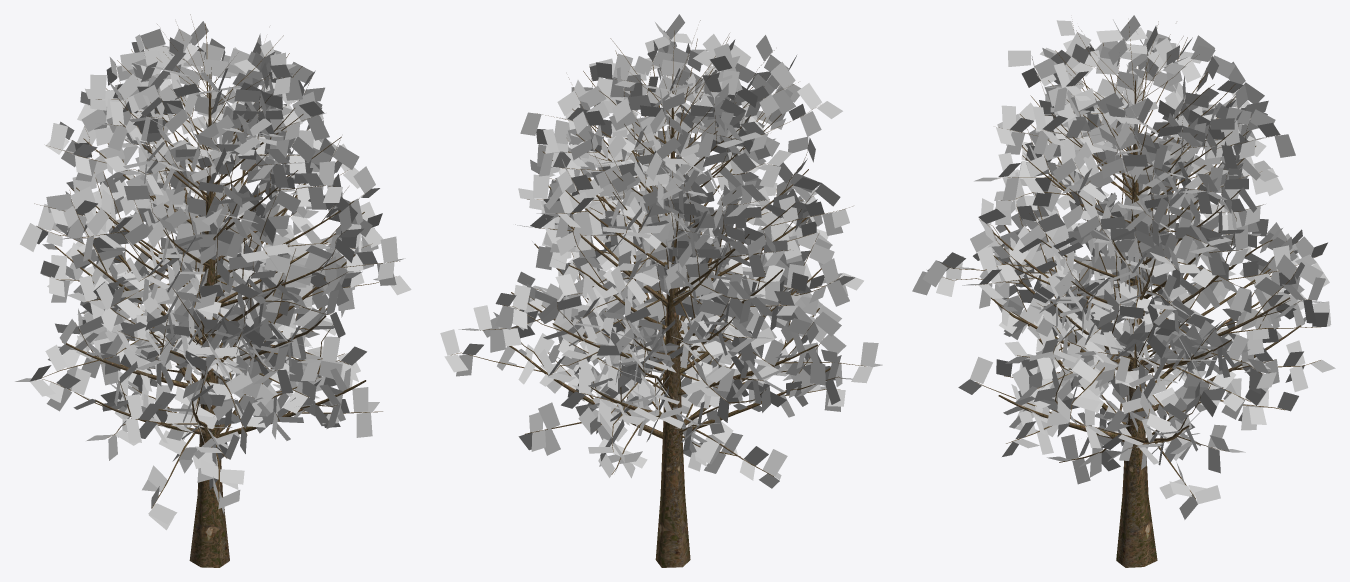
File: Tree_05.fbx
3 views of the same model, side by side, from view 1: azimuth 30°, elevation 25°; view 2: azimuth 150°, elevation 25°; view 3: azimuth 270°, elevation 25° (orthographic).
Visible parts, largest first — view 1: LOD0; view 2: LOD0; view 3: LOD0.
Part boxes in pixels (bbox=[...]): LOD0: bbox=[15, 14, 411, 567]; LOD0: bbox=[440, 14, 882, 567]; LOD0: bbox=[912, 15, 1335, 567].
Size of the model in its own units: 941 by 1226 by 898.
